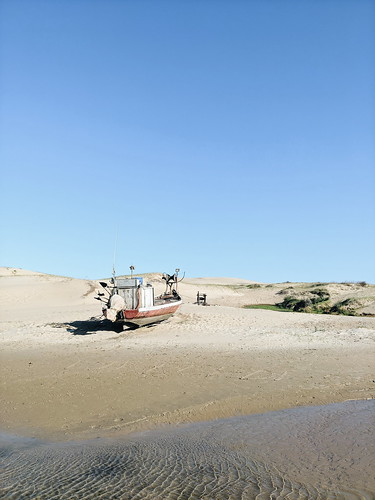beach: (8, 276, 375, 402)
boat: (94, 261, 190, 329)
sky: (1, 1, 375, 273)
